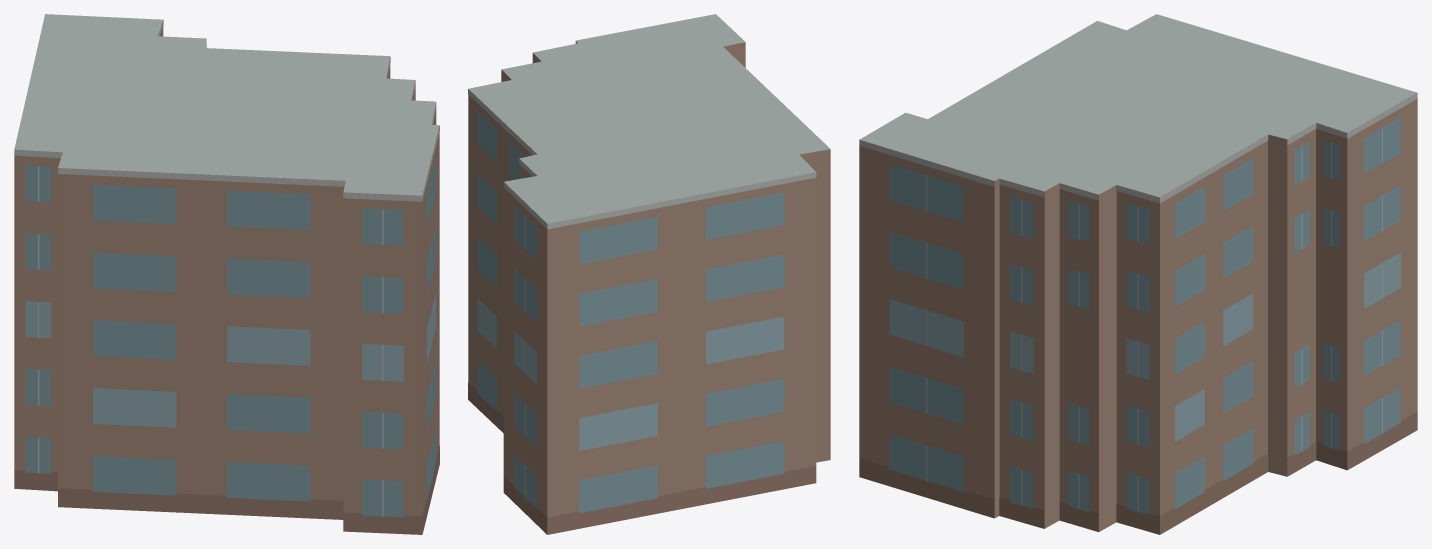
Rendered from survey-upis-32686764.glb.
The picture shows the model from 3 angles, left to right: view 1: azimuth 30°, elevation 25°; view 2: azimuth 150°, elevation 25°; view 3: azimuth 270°, elevation 25°; orthographic projection. The views are drawn at different scales.
Parts seen in each view (by area): view 1: survey-upis-32686764.tmp; view 2: survey-upis-32686764.tmp; view 3: survey-upis-32686764.tmp.
Boxes of the visible parts, left/top/right/bottom form: survey-upis-32686764.tmp: left=14, top=14, right=439, bottom=534; survey-upis-32686764.tmp: left=468, top=14, right=830, bottom=534; survey-upis-32686764.tmp: left=859, top=14, right=1417, bottom=534.
Size of the model in its own units: 16.1 by 13.8 by 20.7.
